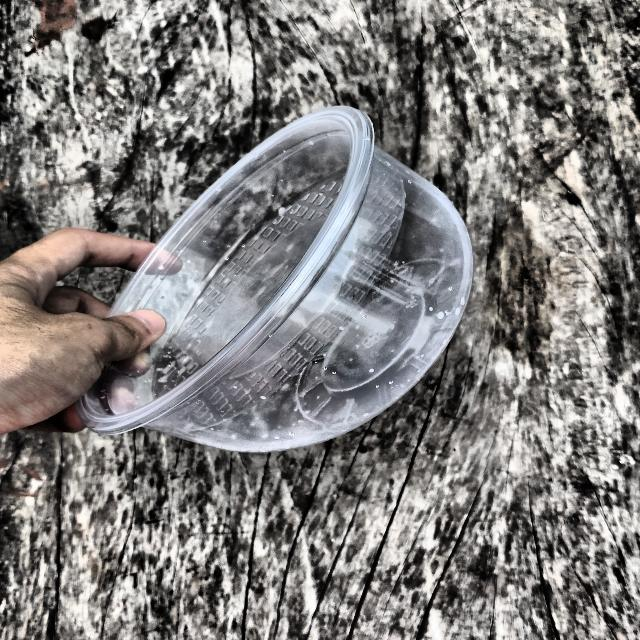plastic container: (75, 91, 488, 474)
